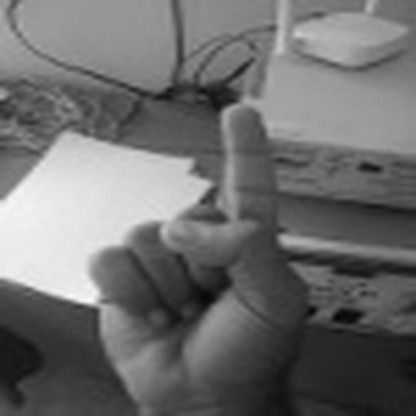d: (86, 97, 309, 415)
